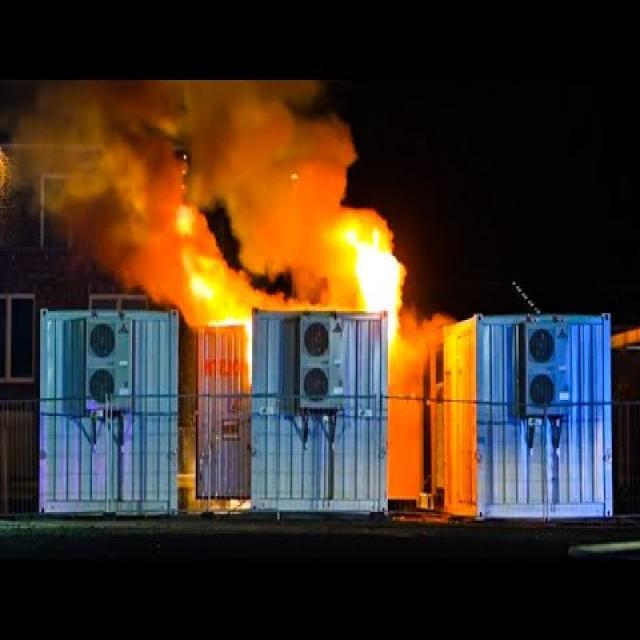fire: (52, 87, 422, 310)
